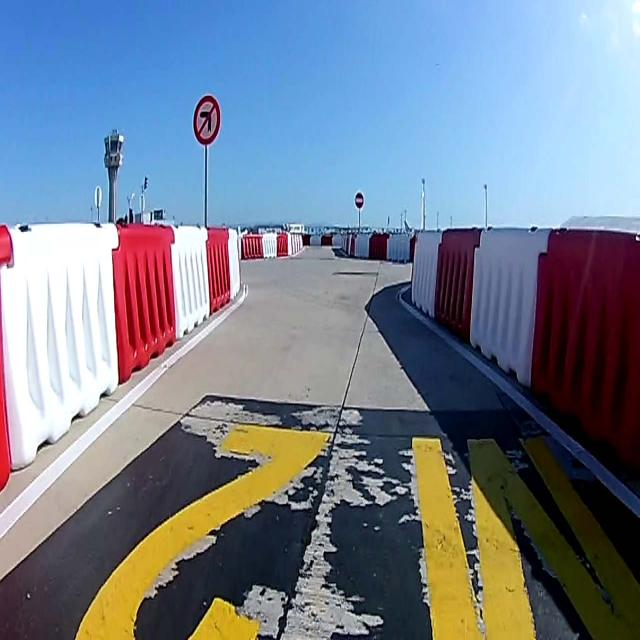girisyok: (355, 192, 363, 208)
soladonulmez: (192, 93, 220, 145)
